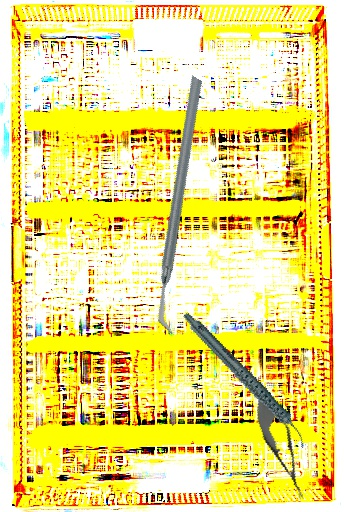Chopper: (68, 74, 296, 335)
Handpiece: (181, 292, 310, 468)
Micro Scissor: (245, 383, 317, 505)
